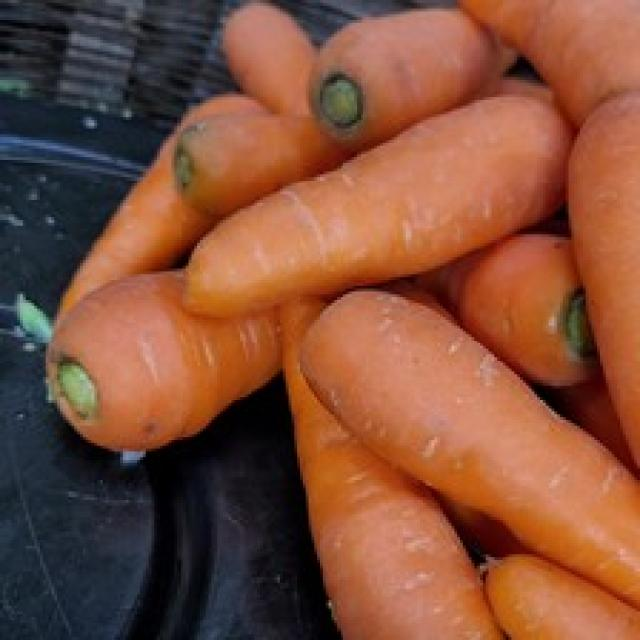Fresh_Carrot: (326, 312, 548, 516)
